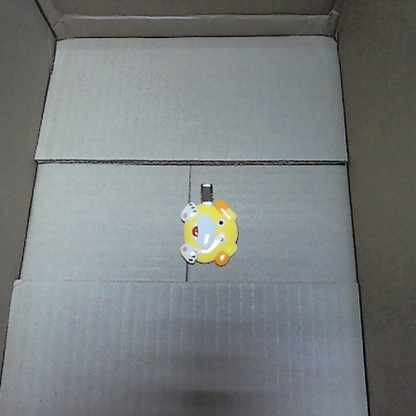dogclip: (176, 180, 239, 267)
